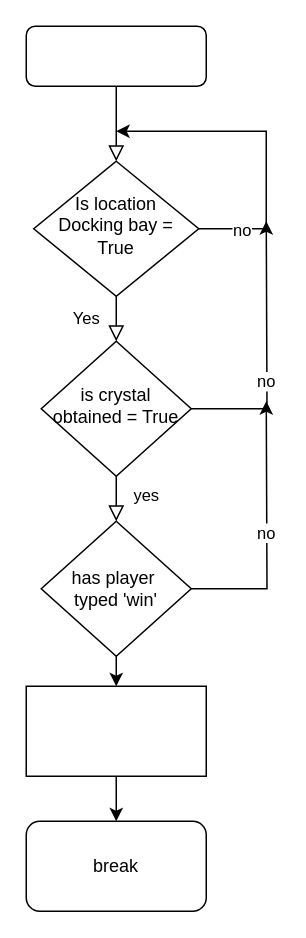
Some shapes in this 306 by 938 pixel diagram are drawn without their labels. Here are the shapes that lost their labels. From the top down, the centre of each, then its label:
At point 115,55: "Win()".
At point 115,730: "+30 bonus points initialise ending".
